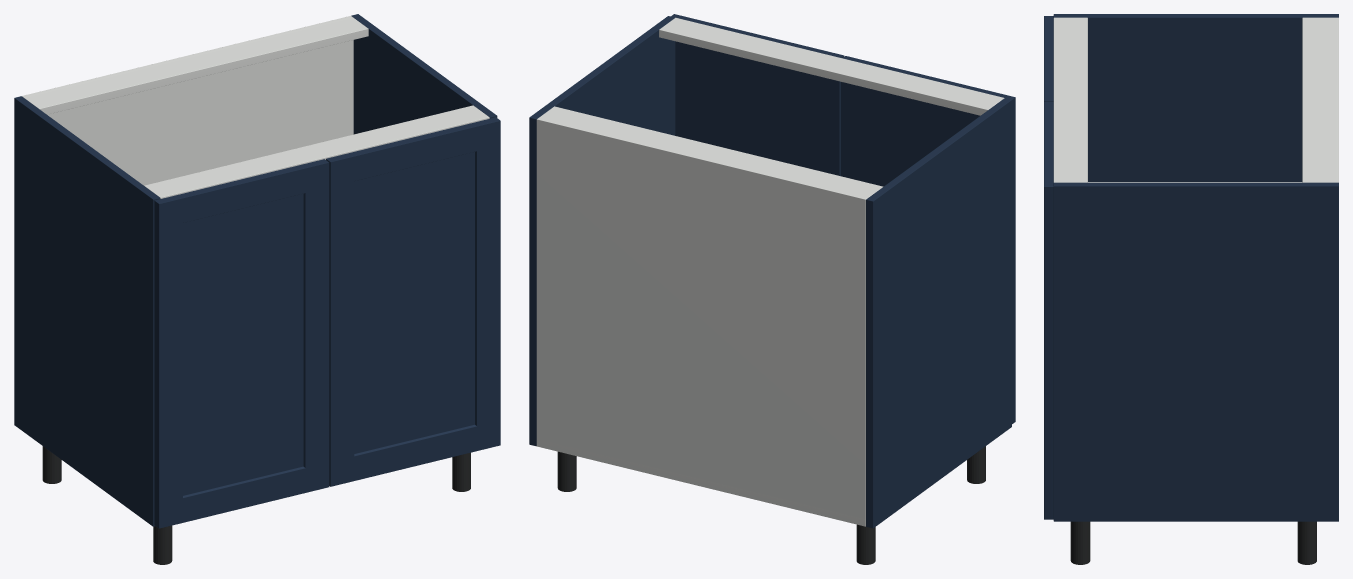
The model's file is oppein-pb-bss-b33fh.glb.
The picture shows the model from 3 angles, left to right: view 1: azimuth 30°, elevation 25°; view 2: azimuth 150°, elevation 25°; view 3: azimuth 270°, elevation 25°; orthographic projection. The views are drawn at different scales.
Visible parts, largest first — view 1: Door, Door.001, Cabinet side, Cabinet back, Cabinet side.001, Top support rail, Top support rail.001, Adjustable foot.001, Adjustable foot.003, Adjustable foot; view 2: Cabinet back, Cabinet side, Door.001, Door, Cabinet side.001, Top support rail.001, Top support rail, Cabinet bottom, Adjustable foot, Adjustable foot.002; view 3: Cabinet side.001, Cabinet side, Top support rail.001, Top support rail, Door.001, Cabinet back, Adjustable foot.003, Adjustable foot.002, Door.
Part boxes in pixels (x1,y1,x2,y2): Door: (154, 159, 329, 528); Door.001: (326, 117, 500, 486); Cabinet side: (14, 96, 160, 526); Cabinet back: (22, 16, 353, 185); Cabinet side.001: (351, 14, 497, 134); Top support rail: (24, 17, 368, 114); Top support rail.001: (144, 105, 489, 198); Adjustable foot.001: (153, 525, 172, 564); Adjustable foot.003: (452, 452, 470, 491); Adjustable foot: (42, 446, 61, 483); Cabinet back: (536, 117, 867, 526); Cabinet side: (866, 98, 1011, 528); Door.001: (671, 14, 844, 176); Door: (841, 56, 1015, 423); Cabinet side.001: (529, 16, 675, 446); Top support rail.001: (659, 17, 1004, 115); Top support rail: (540, 106, 883, 197); Cabinet bottom: (537, 440, 865, 526); Adjustable foot: (856, 524, 875, 564); Adjustable foot.002: (557, 451, 576, 491); Cabinet side.001: (1053, 182, 1338, 521); Cabinet side: (1053, 14, 1338, 181); Top support rail.001: (1053, 17, 1087, 182); Top support rail: (1302, 17, 1333, 182); Door.001: (1044, 101, 1053, 519); Cabinet back: (1333, 17, 1338, 182); Adjustable foot.003: (1070, 521, 1090, 564); Adjustable foot.002: (1297, 521, 1316, 564); Door: (1044, 16, 1053, 101).
Bounding box in the file's own units: 0.8382 × 0.8763 × 0.6064.
